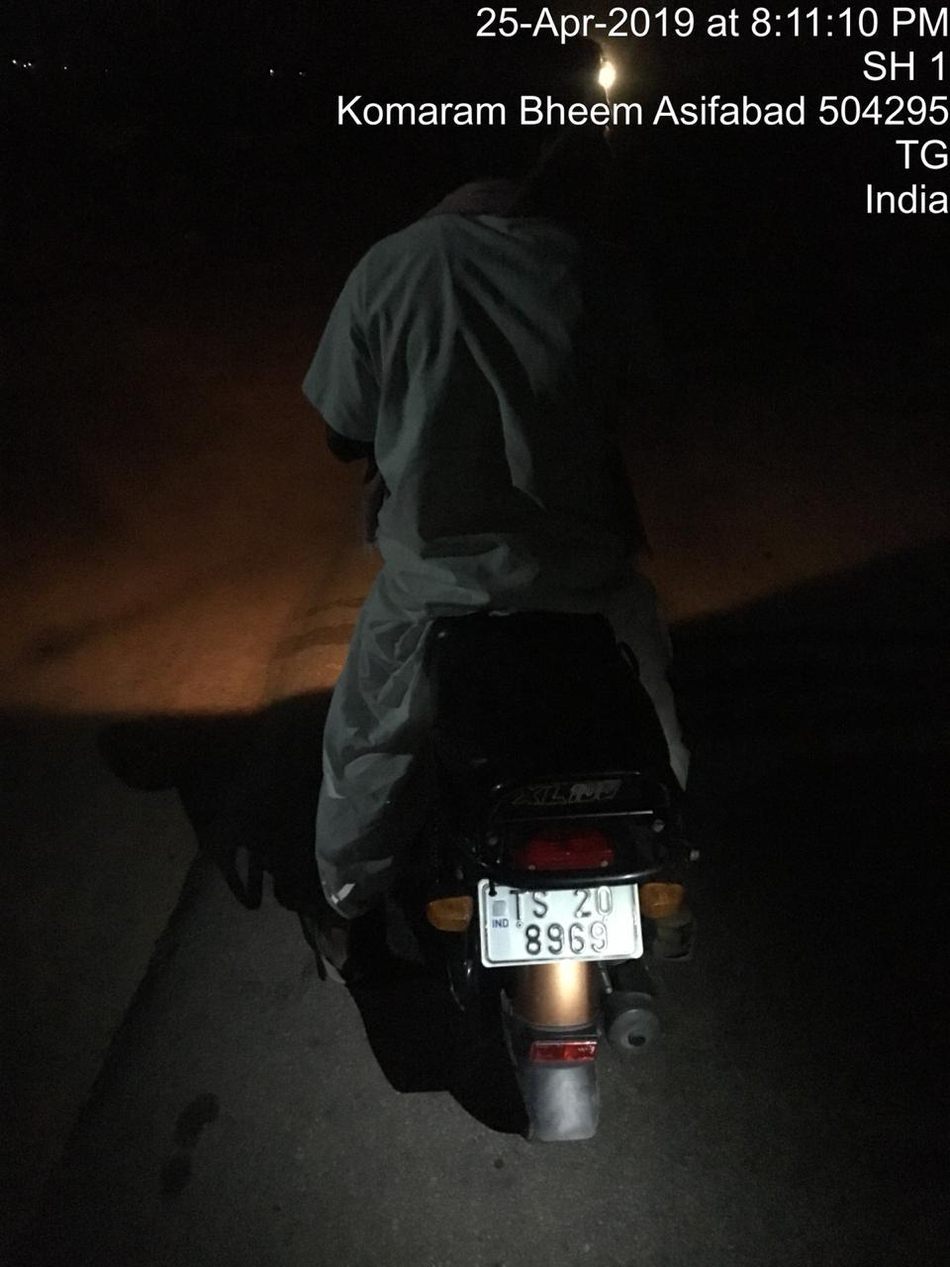plate: (462, 866, 685, 989)
